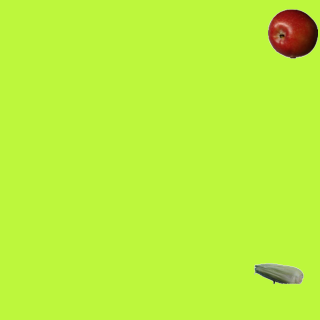Apple Braeburn: (267, 8, 317, 58)
Corn Husk: (253, 248, 303, 298)
